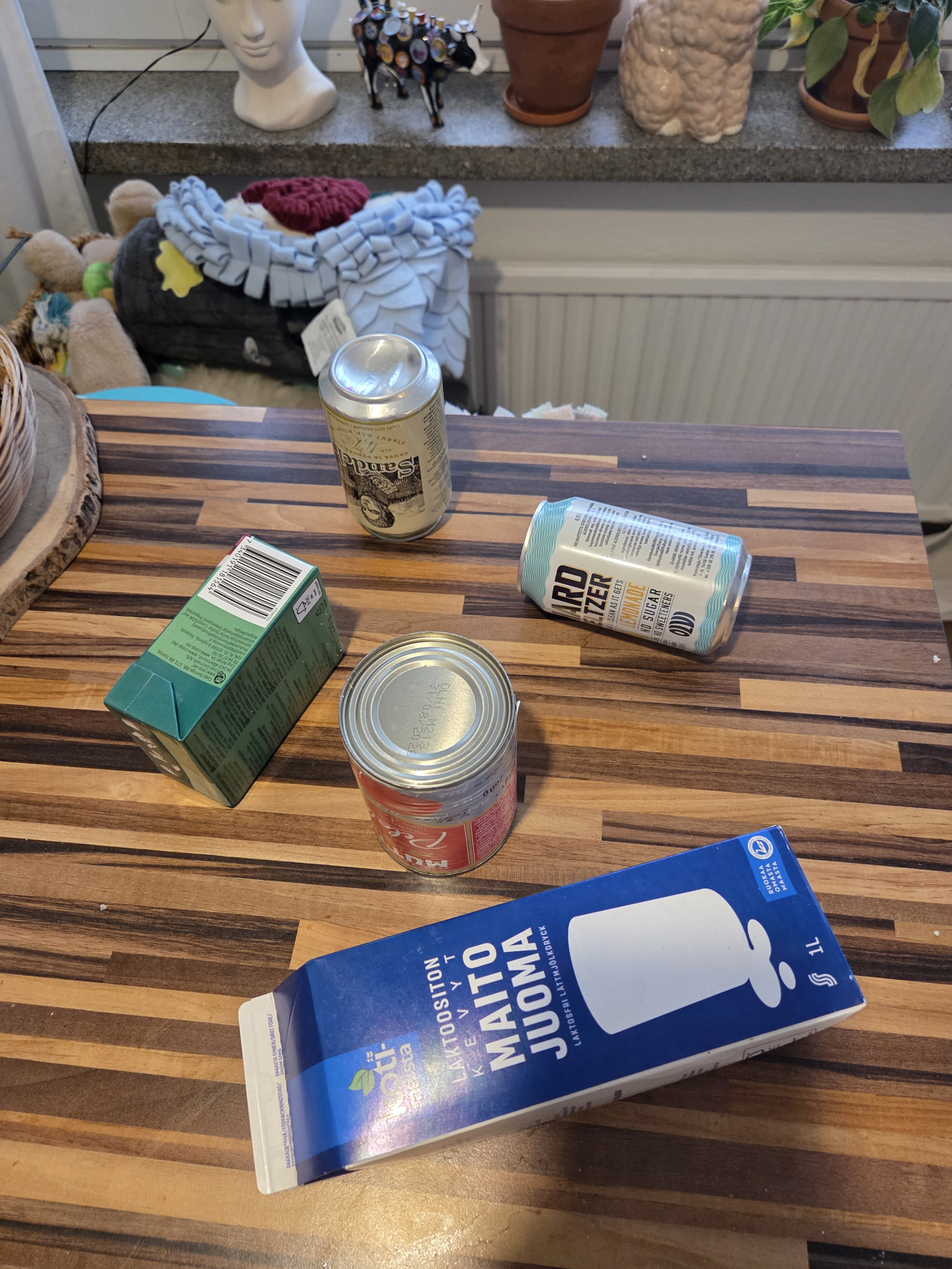Dryckeskartong: (237, 823, 865, 1197)
Konservburk: (340, 631, 520, 875)
Pantburk: (518, 495, 755, 657), (316, 333, 454, 541)
